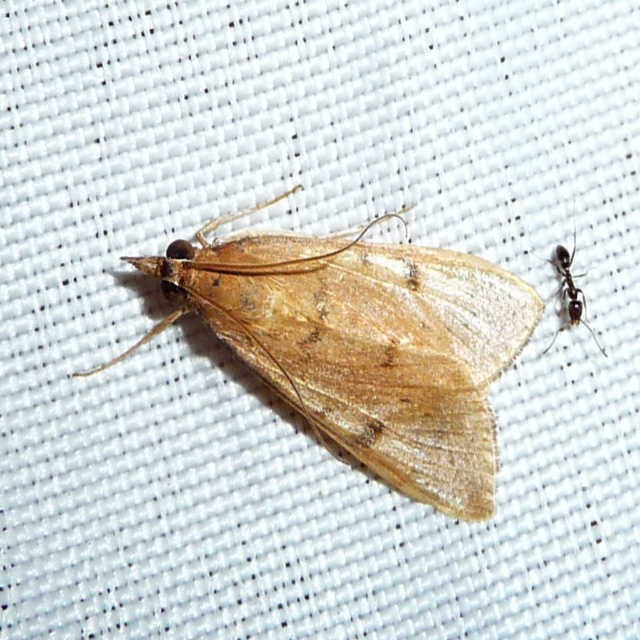Moths and butterflies: (70, 183, 540, 523)
